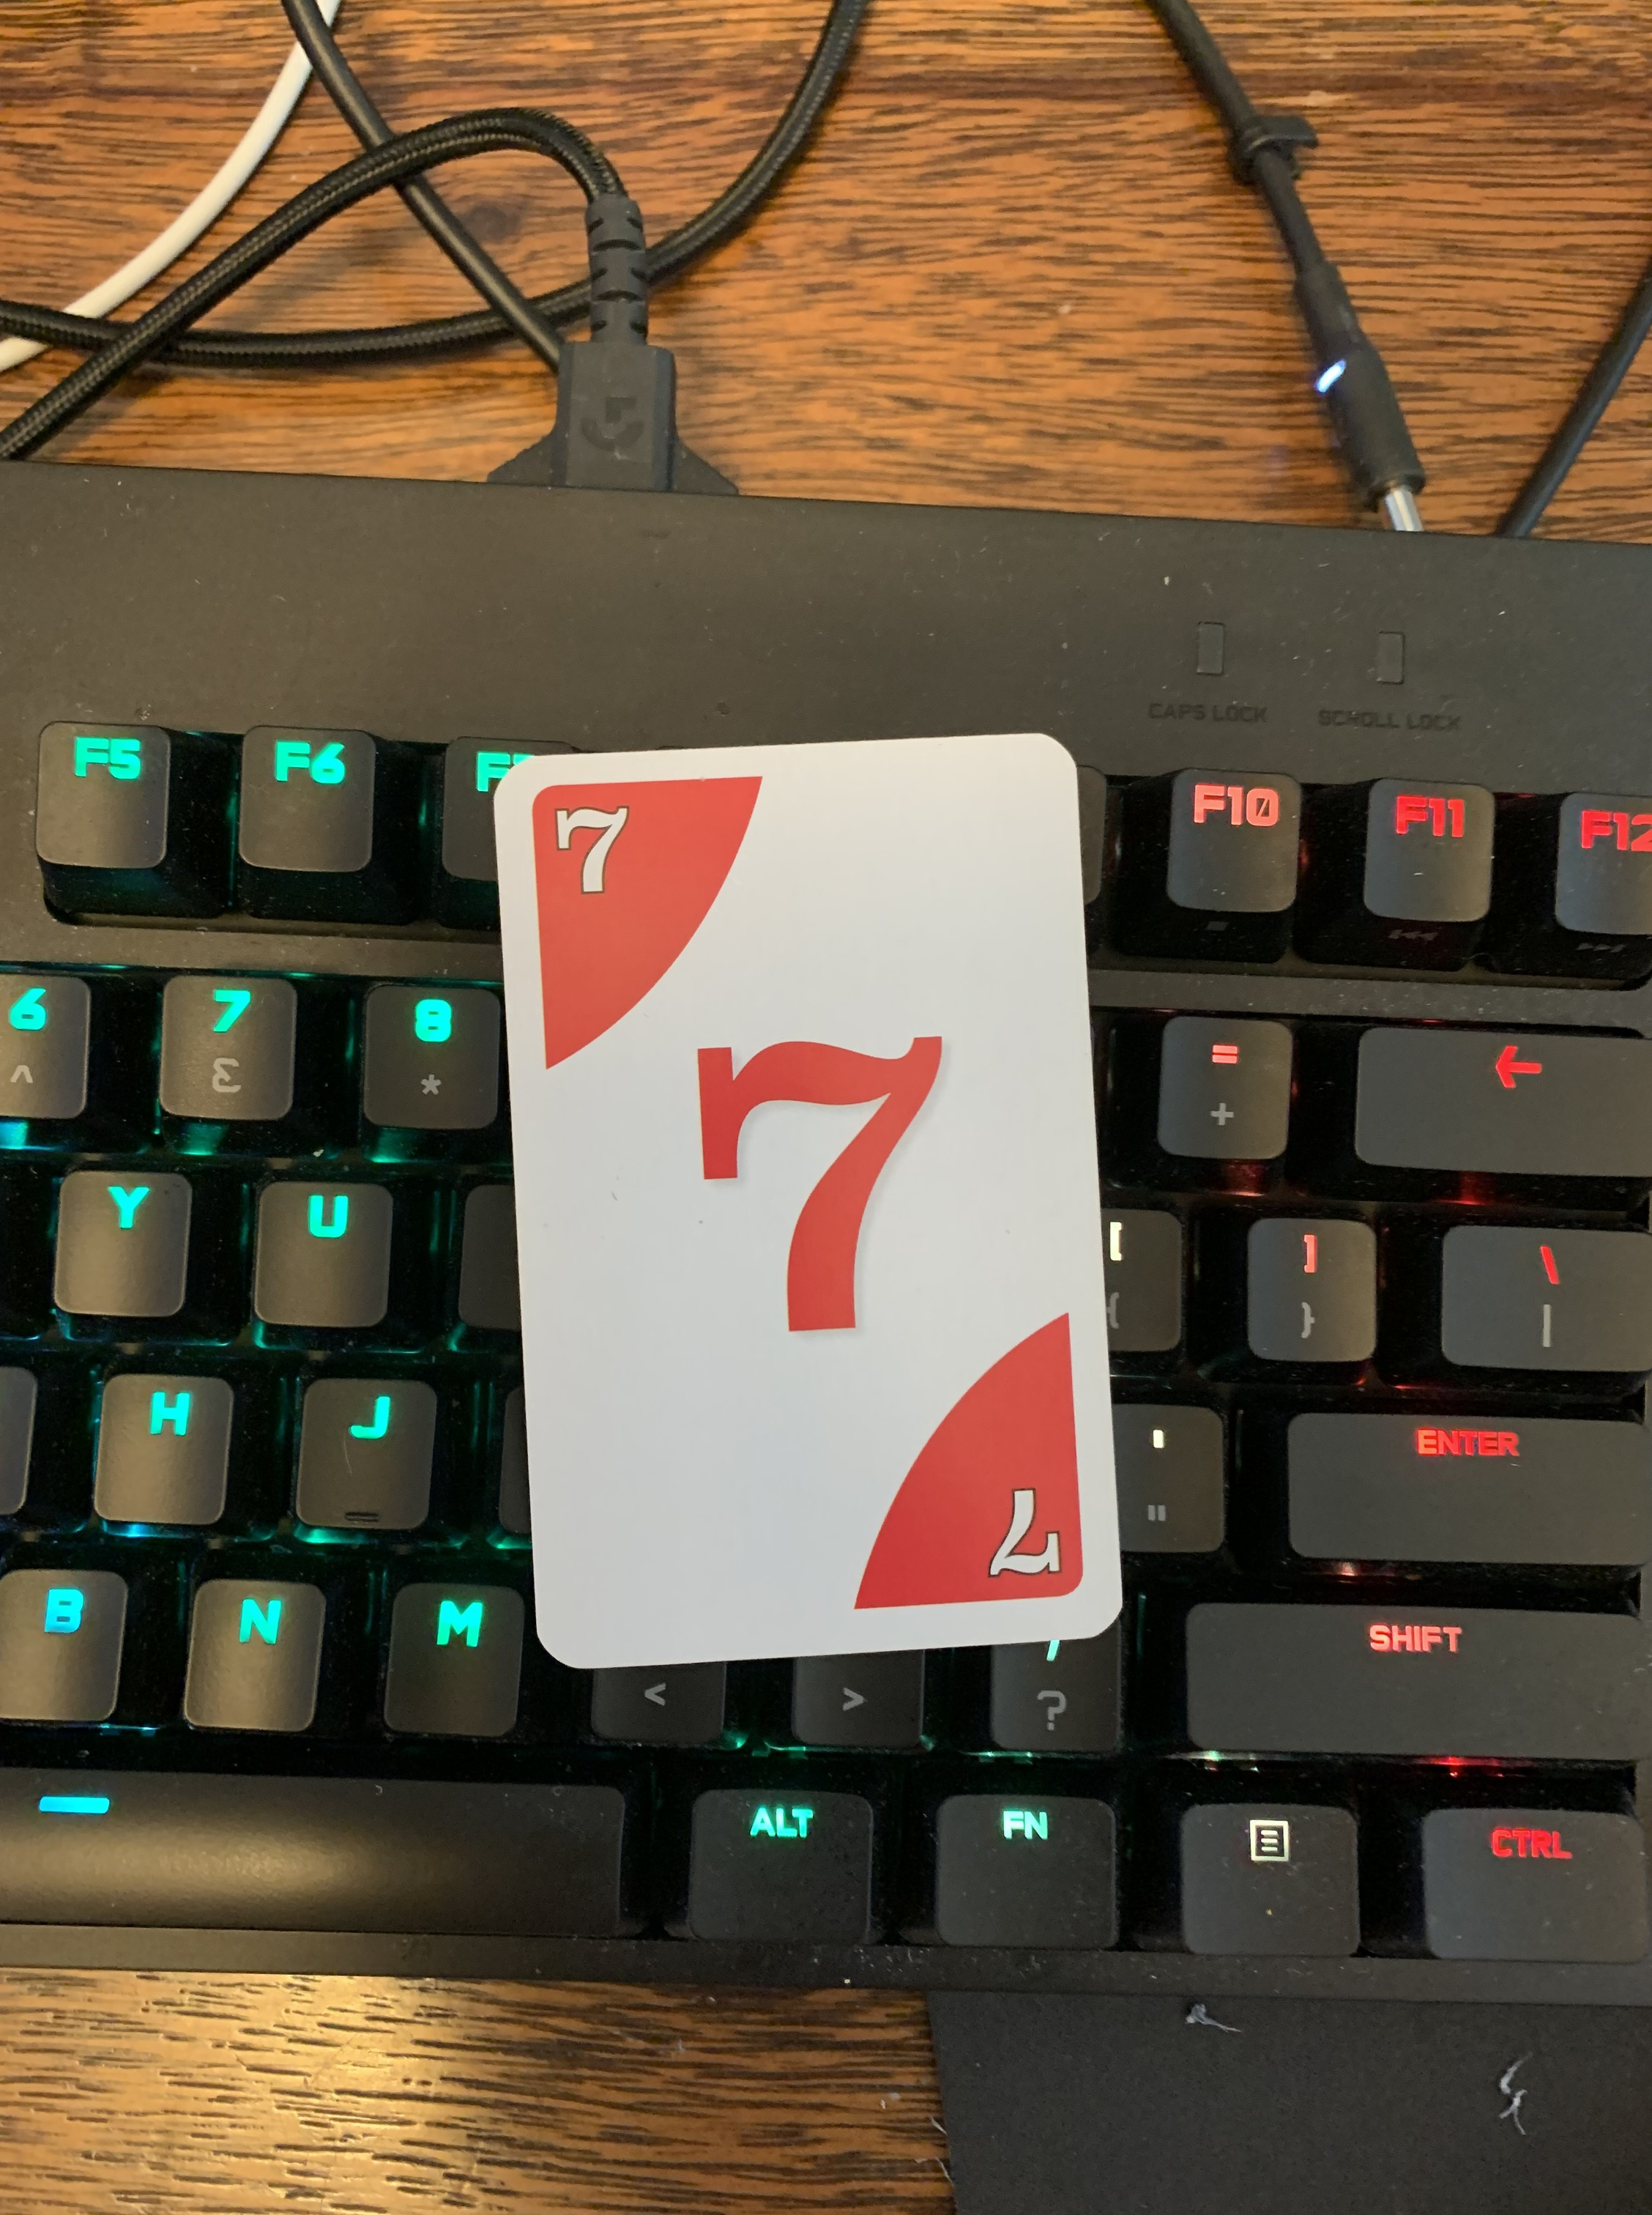seven: (465, 726, 1152, 1673)
